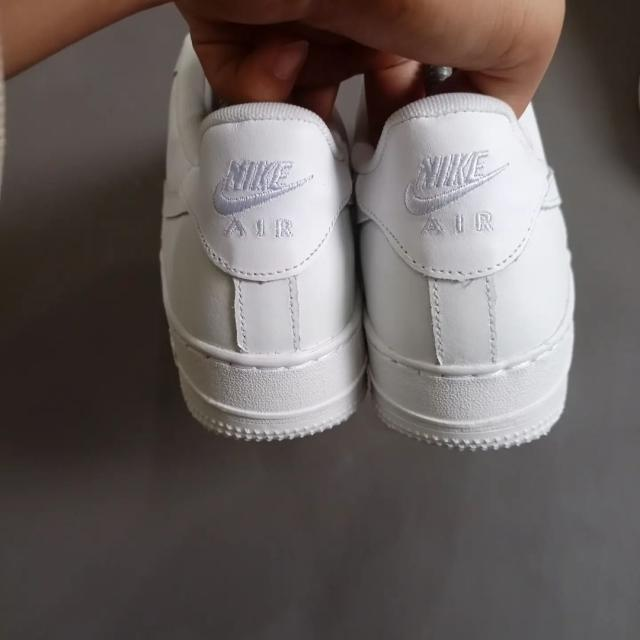nike fake air force: (346, 88, 580, 458), (148, 96, 370, 446)
